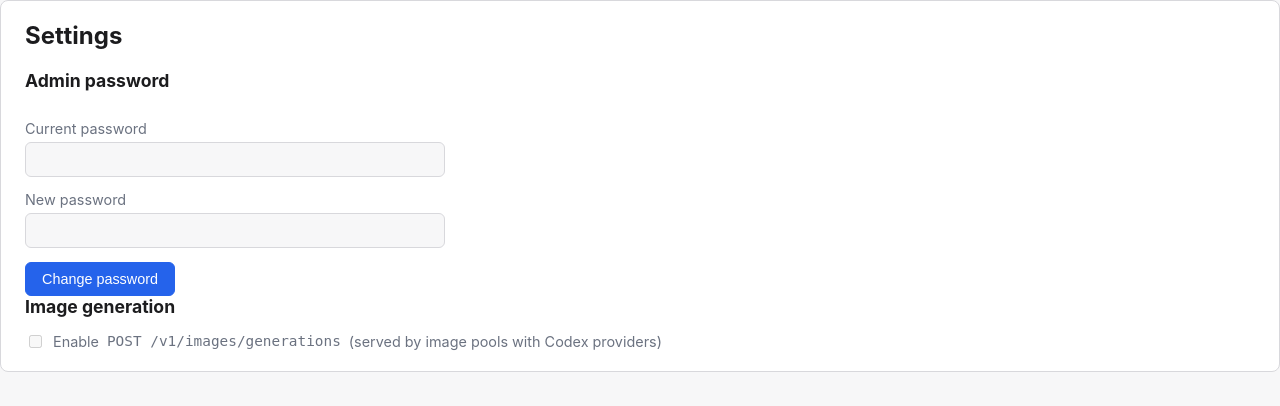
Settings › changes_admin_password
In the password field labelled "Current password": (235, 159) [25,142,445,177], type "old"
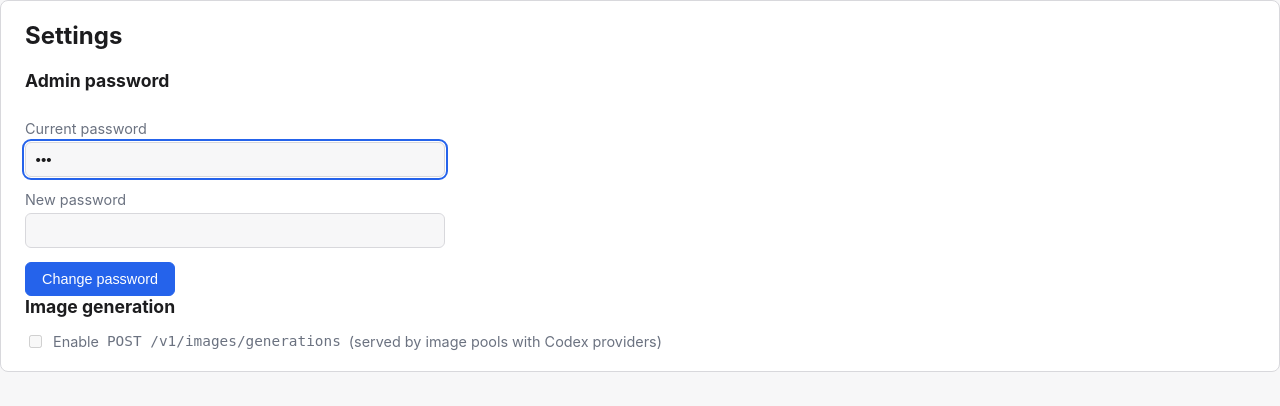
In the password field labelled "New password": (235, 230) [25,213,445,248], type "new-secret"
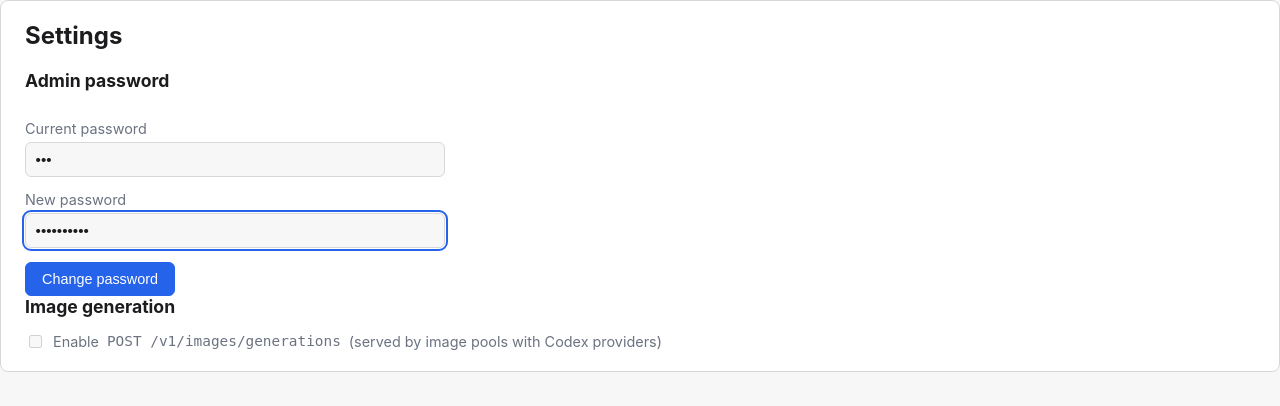
Click the button "Change password": click(100, 279) [25,262,175,296]
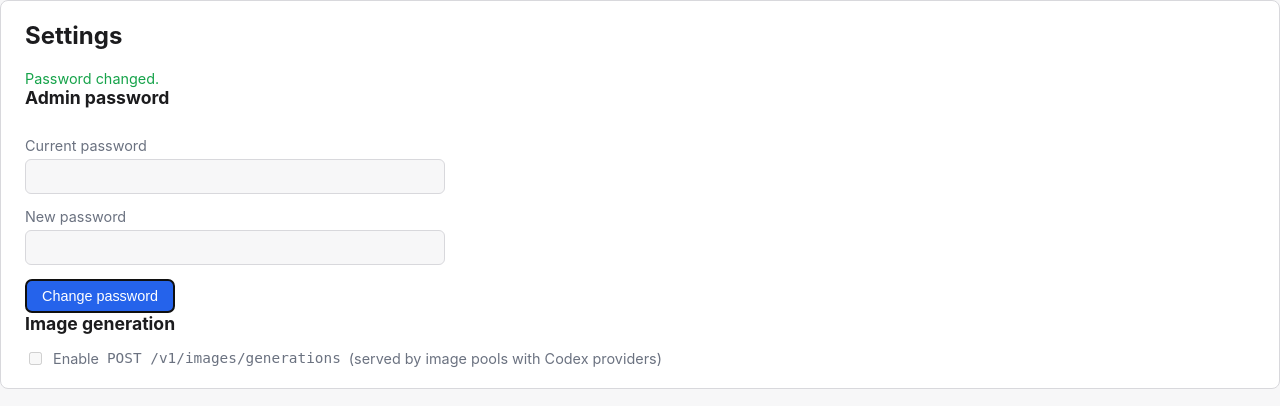
Check: the message reads "Password changed.", box [25,70,159,87]
